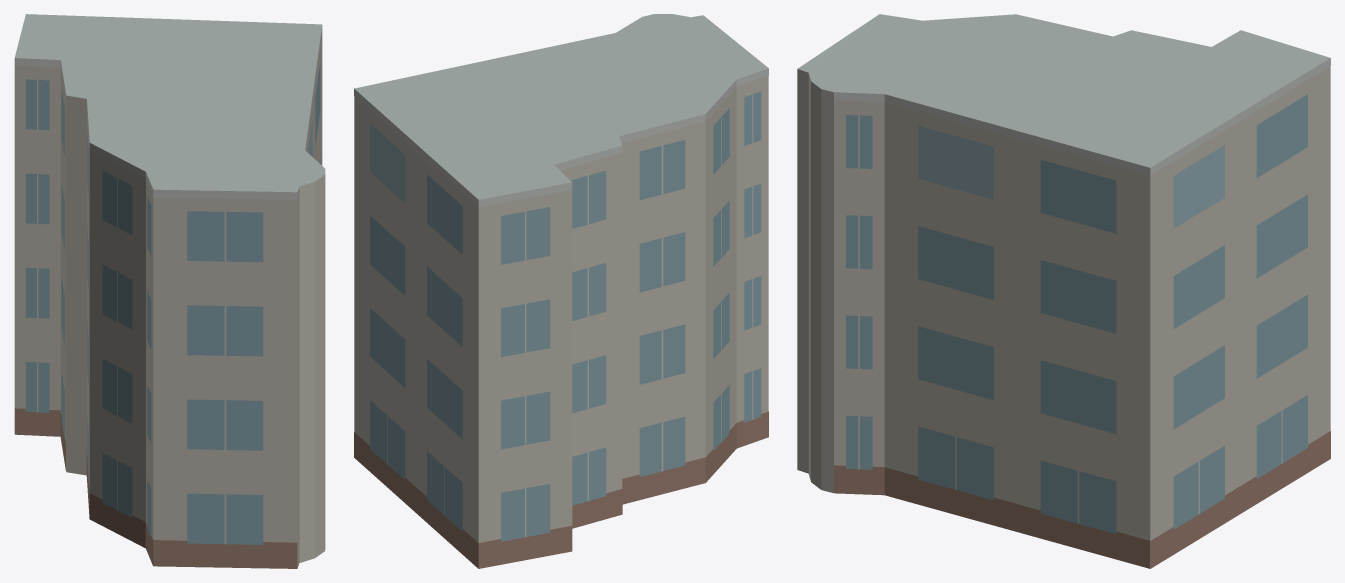
File: survey-upis-32646172.glb
3 views of the same model, side by side, from view 1: azimuth 30°, elevation 25°; view 2: azimuth 150°, elevation 25°; view 3: azimuth 270°, elevation 25° (orthographic). The views are drawn at different scales.
Parts seen in each view (by area): view 1: survey-upis-32646172.tmp; view 2: survey-upis-32646172.tmp; view 3: survey-upis-32646172.tmp.
Boxes of the visible parts, <box> form: survey-upis-32646172.tmp: <box>14,14,325,568</box>; survey-upis-32646172.tmp: <box>354,14,768,568</box>; survey-upis-32646172.tmp: <box>797,14,1330,568</box>.
Size of the model in its own units: 10.04 by 12.2 by 14.71.
